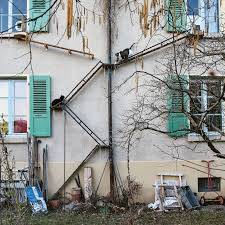cat: (112, 42, 134, 64), (50, 93, 68, 109)
